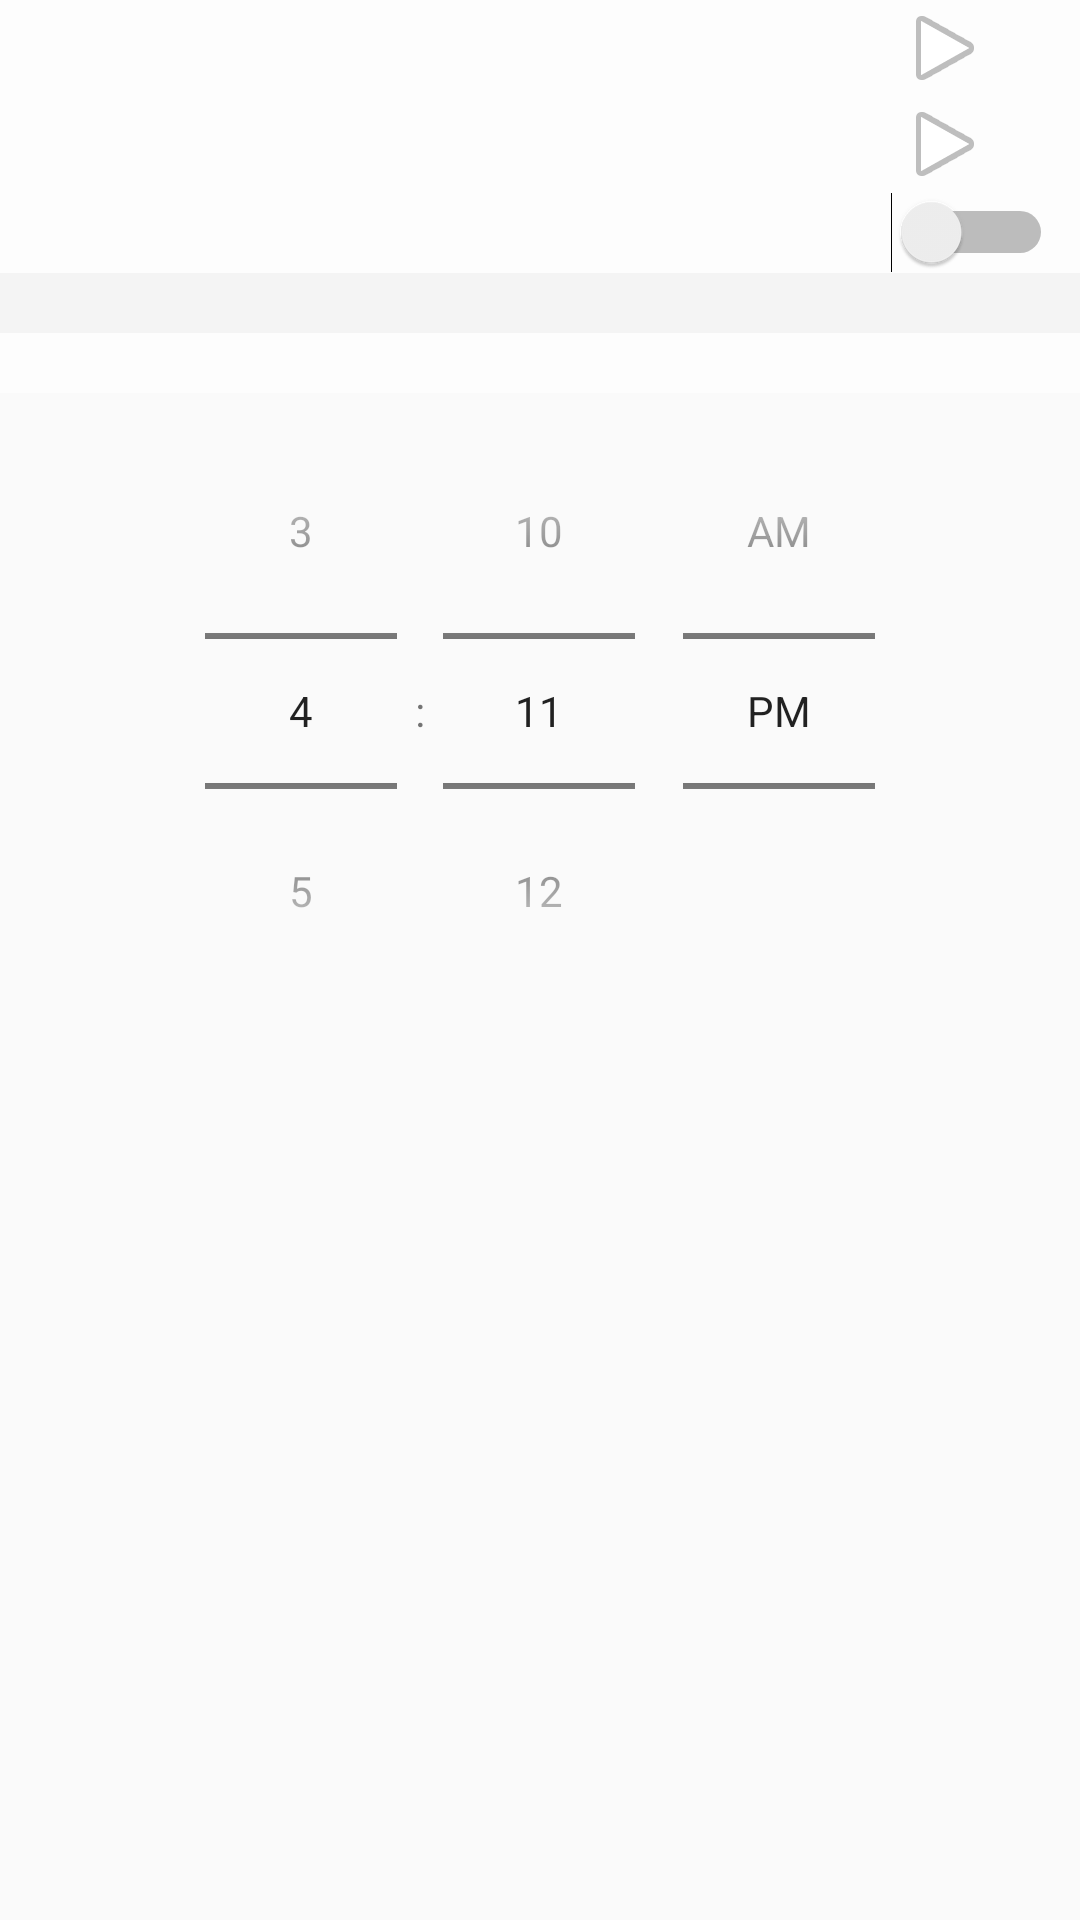

Where icons sit on this 1080px x 1920px app screen, as (x1, y1, x2, y2):
play: (916, 16, 974, 80), (916, 112, 974, 176)
